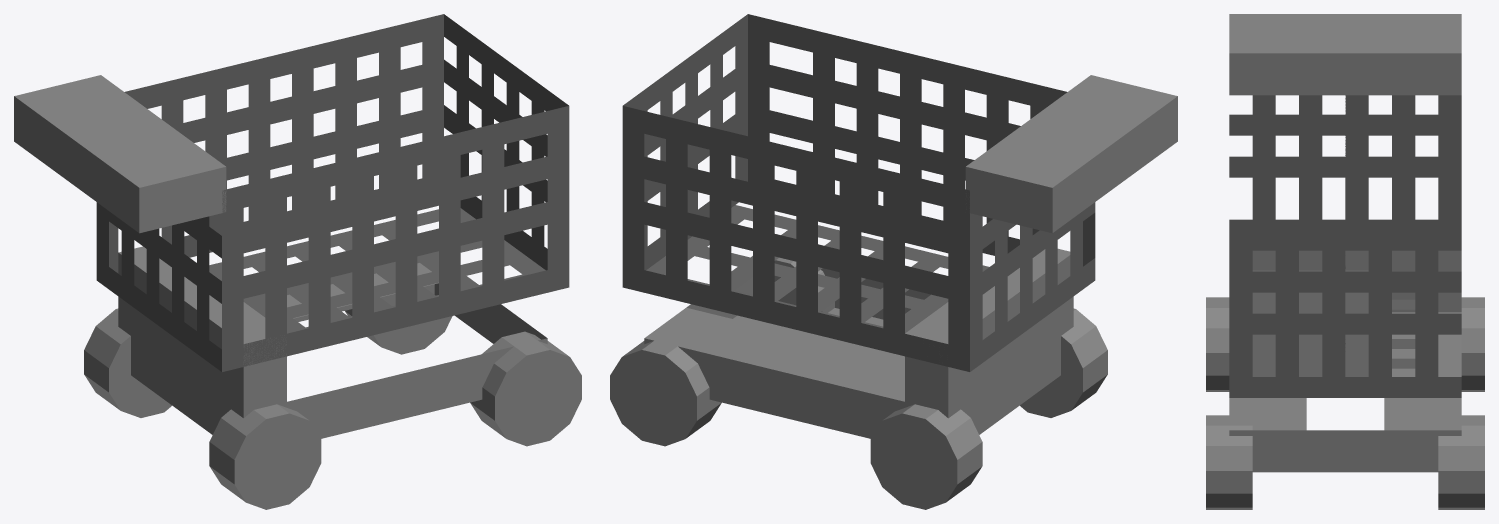
Rendered from window_shopper.glb.
3 views of the same model, side by side, from view 1: azimuth 30°, elevation 25°; view 2: azimuth 150°, elevation 25°; view 3: azimuth 270°, elevation 25° (orthographic). The views are drawn at different scales.
Visible parts, largest first — view 1: cart, theshaft (×2), wheel (×4), theballs; view 2: cart, theshaft (×2), theballs, wheel (×3); view 3: cart, theshaft (×2), theballs, wheel (×4).
Boxes of the visible parts, <box> form: cart: <box>96,14,569,371</box>; theshaft (×2): <box>14,75,286,418</box>; wheel (×4): <box>84,284,581,509</box>; theballs: <box>119,263,547,438</box>; cart: <box>622,14,1095,371</box>; theshaft (×2): <box>905,75,1177,417</box>; theballs: <box>644,268,1072,438</box>; wheel (×3): <box>610,308,1107,509</box>; cart: <box>1229,95,1461,397</box>; theshaft (×2): <box>1229,14,1461,312</box>; theballs: <box>1229,312,1461,472</box>; wheel (×4): <box>1206,297,1484,509</box>.
Bounding box in the file's own units: 0.6188 × 0.4688 × 0.375.
3 materials, 3 textured.
